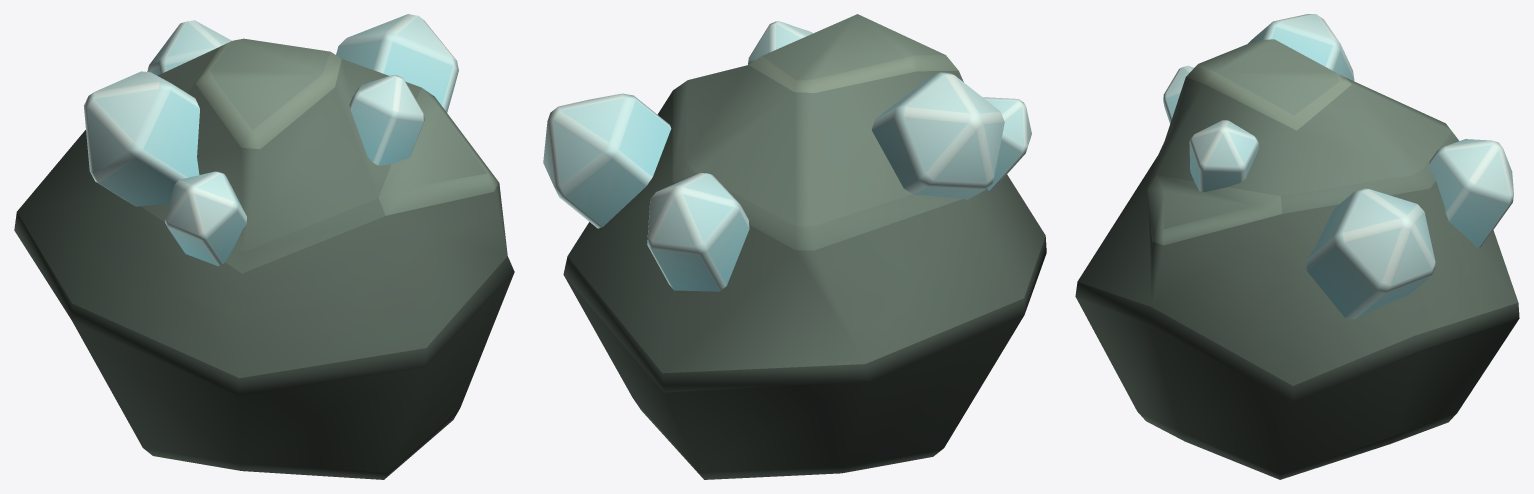
File: ore_christal_diamond_M.fbx
The picture shows the model from 3 angles, left to right: view 1: azimuth 30°, elevation 25°; view 2: azimuth 150°, elevation 25°; view 3: azimuth 270°, elevation 25°; orthographic projection. The views are drawn at different scales.
Visible parts, largest first — view 1: ore_christal_diamond_M; view 2: ore_christal_diamond_M; view 3: ore_christal_diamond_M.
Boxes of the visible parts, box(x1,y1,x2,y2) form: ore_christal_diamond_M: box(14, 14, 514, 479); ore_christal_diamond_M: box(543, 14, 1046, 479); ore_christal_diamond_M: box(1075, 14, 1519, 479).
Bounding box in the file's own units: 139 × 132 × 139.
Materials: 1 (1 with a texture image).
